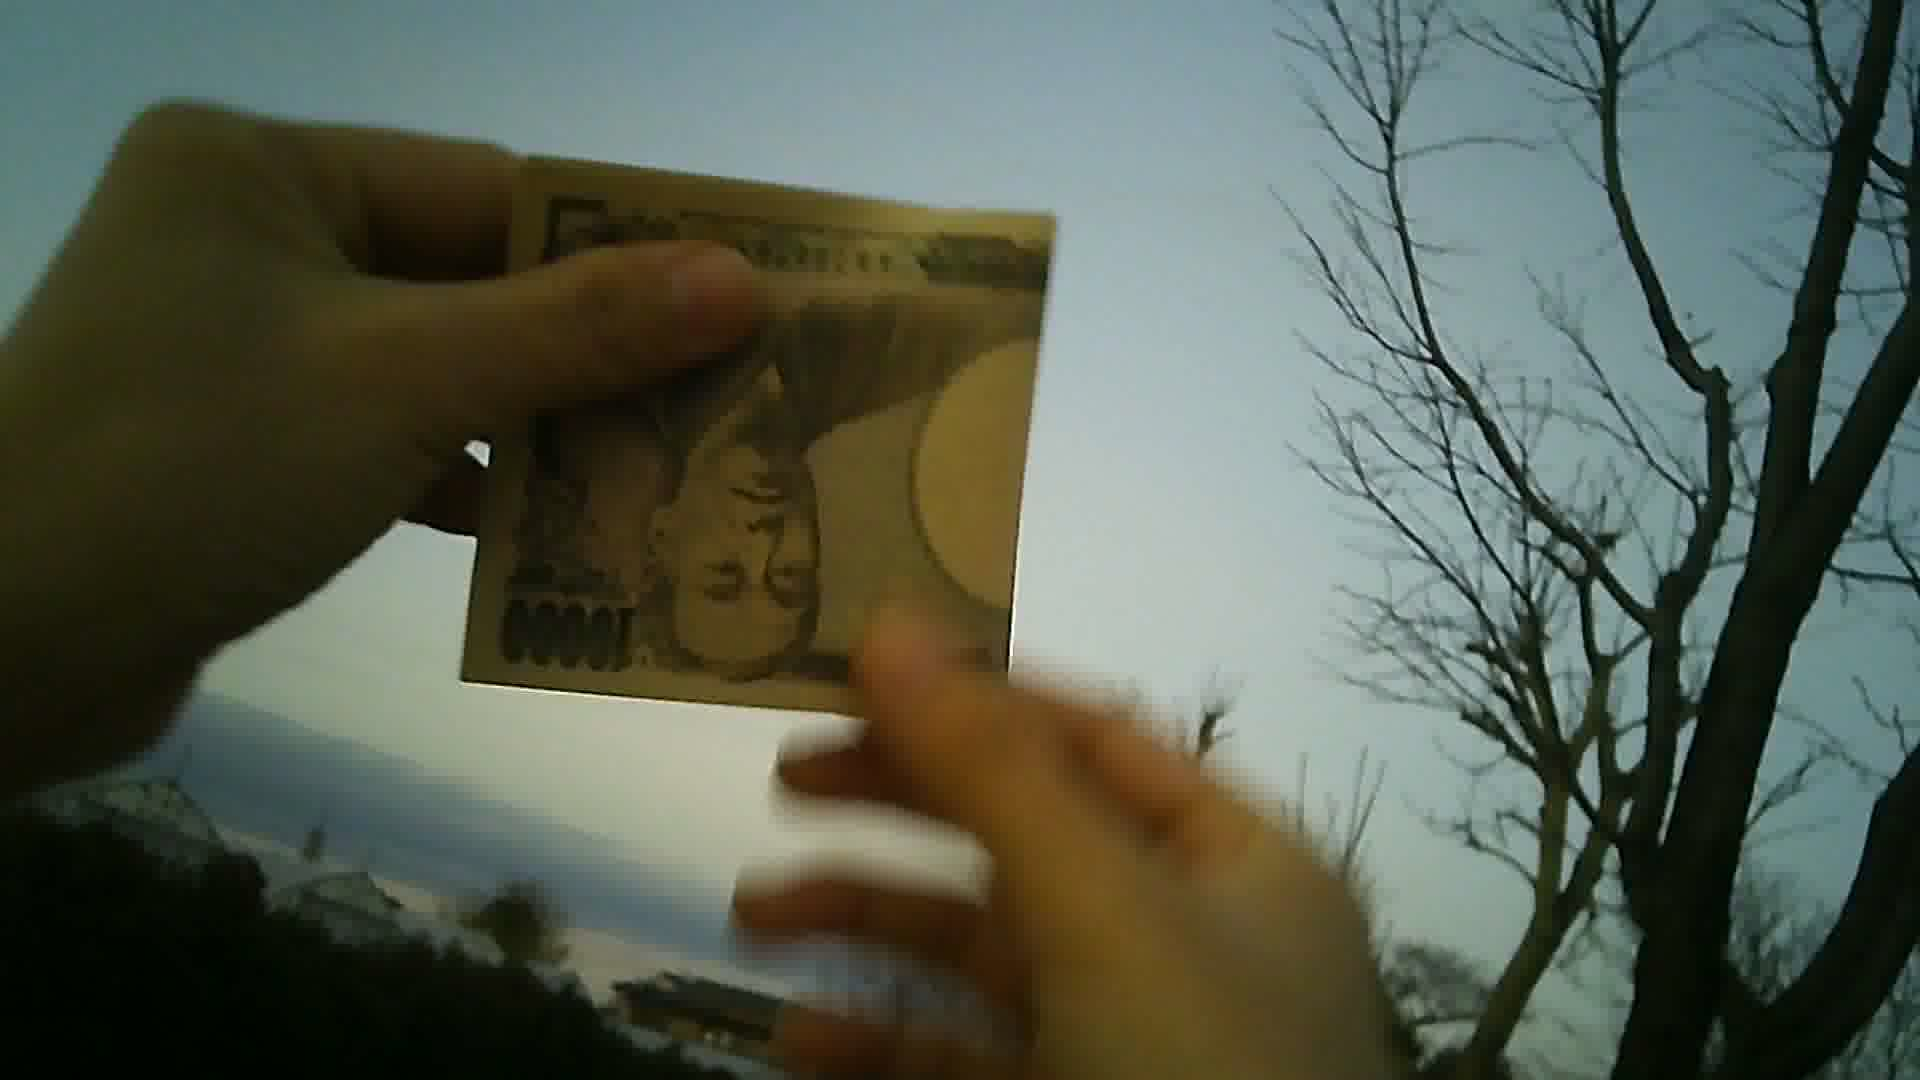10,000 Yen: (455, 136, 1068, 757)
